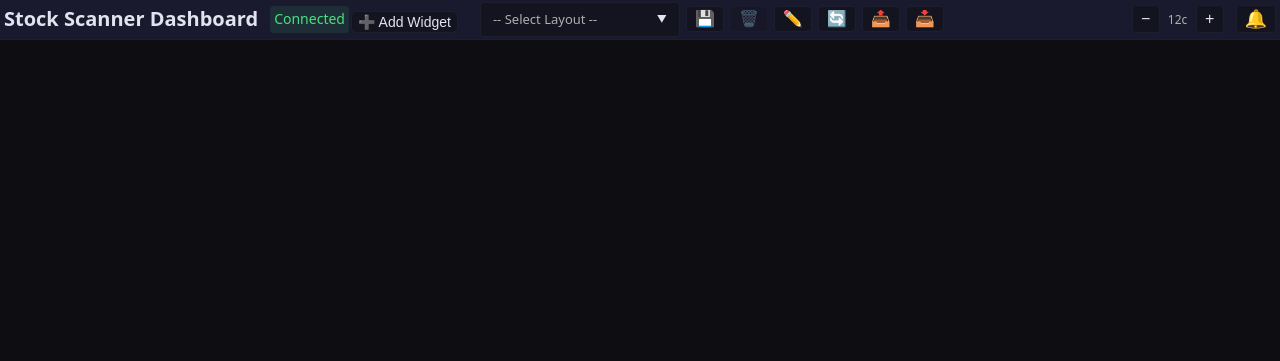
hover preview with description › with layout having description expect description shown in hover preview
The width and height of the screenshot is (1280, 361).
Step 1. Click the element with class "select-trigger" → (580, 19), box [480,2,680,37]
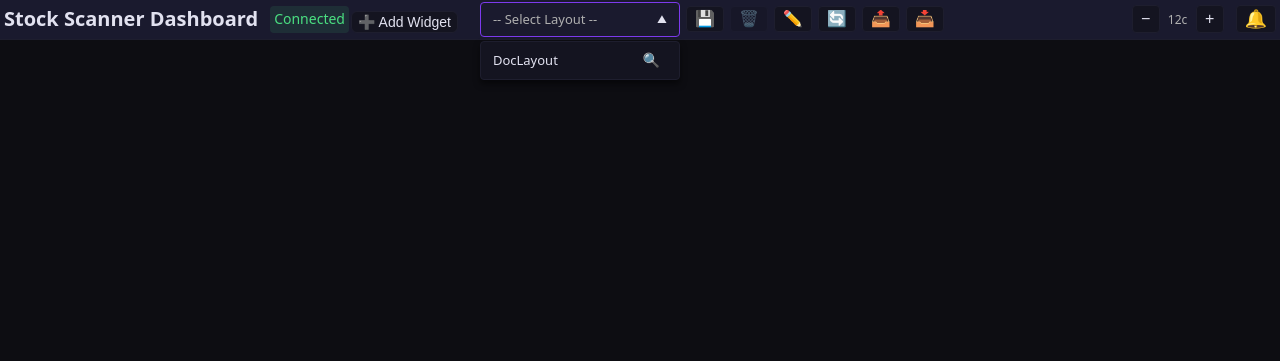
Step 2. Hover over the element with class "select-option" → (525, 60), box [493,50,667,70]
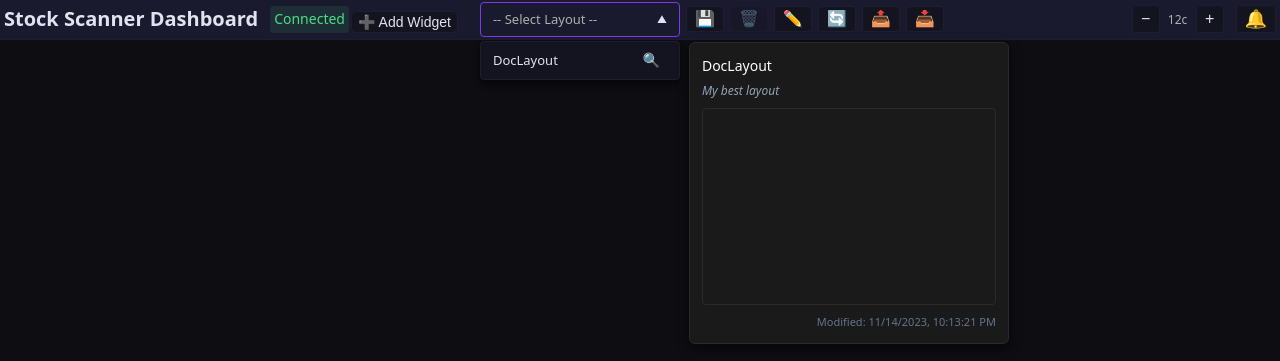
Result: the text "My best layout" is shown at [702,82,779,99]
